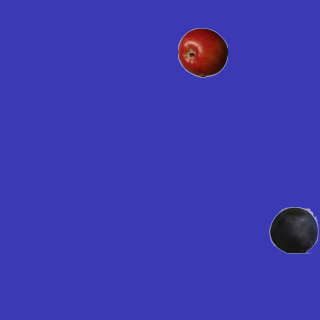Apple Braeburn: (177, 27, 227, 77)
Grape Blue: (268, 204, 318, 254)
